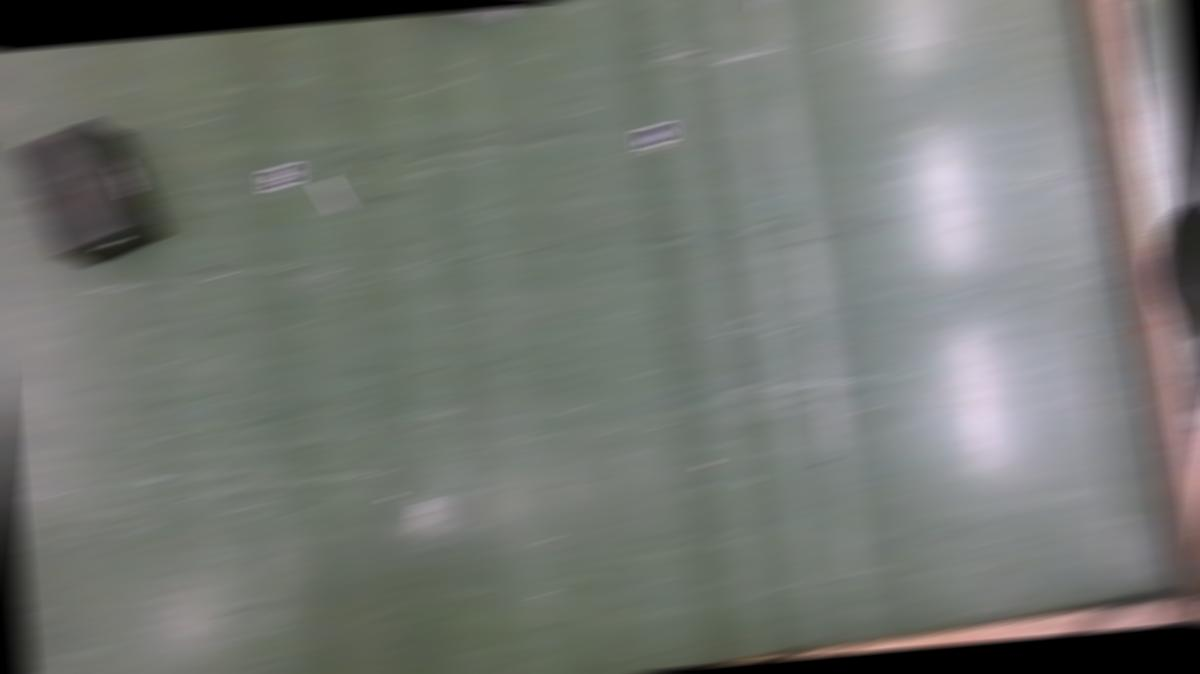probes: (317, 178, 348, 214), (754, 1, 784, 7)
rako: (8, 116, 170, 273), (422, 7, 520, 23)
